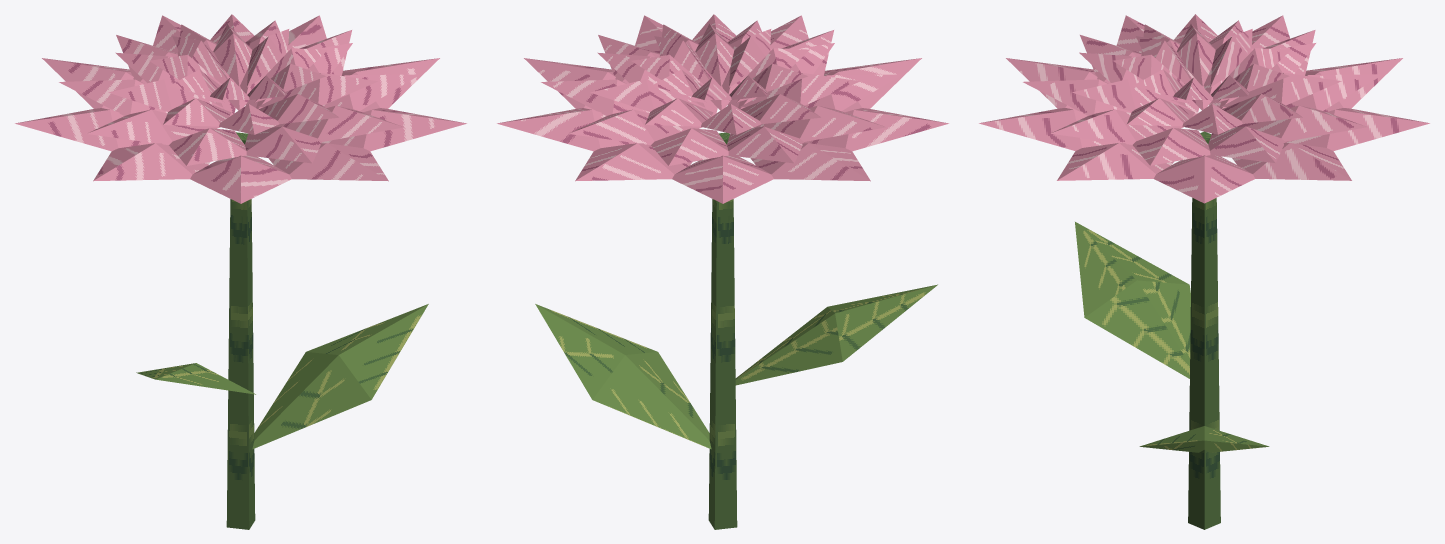
The model's file is flor-dalia-v01.gltf.
3 renders of one model, left to right at view 1: azimuth 30°, elevation 25°; view 2: azimuth 150°, elevation 25°; view 3: azimuth 270°, elevation 25°, orthographic.
Parts seen in each view (by area): view 1: petalas, folhas, hastes; view 2: petalas, folhas, hastes; view 3: petalas, folhas, hastes.
Part boxes in pixels (x1,y1,x2,y2): petalas: (15,14,466,203); folhas: (136,304,428,449); hastes: (226,132,255,529); petalas: (497,14,948,203); folhas: (535,284,937,449); hastes: (708,132,737,529); petalas: (979,14,1429,203); folhas: (1075,222,1269,452); hastes: (1188,131,1220,529).
Size of the model in its own units: 0.6789 by 0.786 by 0.6894.
1 material, 1 textured.
